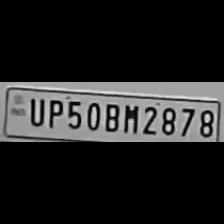0: (83, 100, 101, 132)
2: (138, 102, 158, 136)
5: (64, 96, 82, 130)
7: (176, 104, 194, 138)
8: (195, 105, 215, 138), (158, 104, 176, 136)
B: (102, 100, 120, 134)
M: (121, 101, 139, 135)
P: (43, 96, 62, 128)
U: (25, 94, 45, 128)
